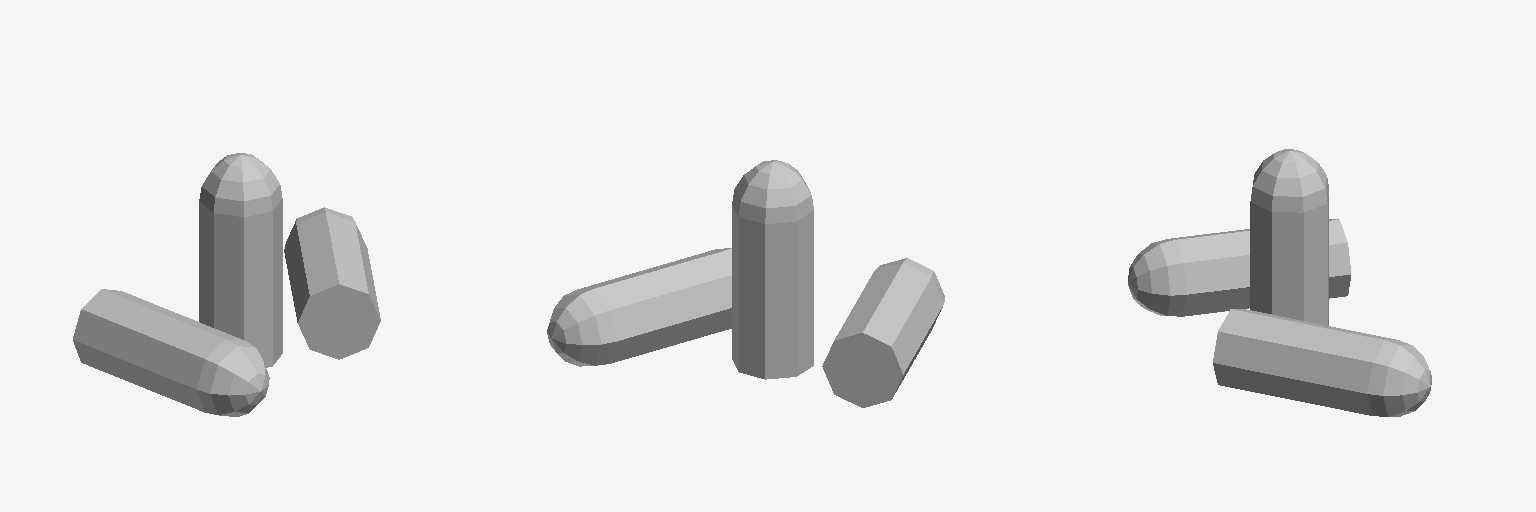
File: ammo_pistol_loose_3pcs_mp_1.obj
The picture shows the model from 3 angles: view 1: azimuth 30°, elevation 25°; view 2: azimuth 150°, elevation 25°; view 3: azimuth 270°, elevation 25°; orthographic projection.
Visible parts, largest first — view 1: ammo_pistol_loose_3pcs_mp_1; view 2: ammo_pistol_loose_3pcs_mp_1; view 3: ammo_pistol_loose_3pcs_mp_1.
Boxes of the visible parts, x1,y1,x2,y2 form: ammo_pistol_loose_3pcs_mp_1: [73, 153, 380, 416]; ammo_pistol_loose_3pcs_mp_1: [547, 160, 944, 407]; ammo_pistol_loose_3pcs_mp_1: [1128, 149, 1431, 416].
Size of the model in its own units: 0.0616 by 0.037 by 0.051.